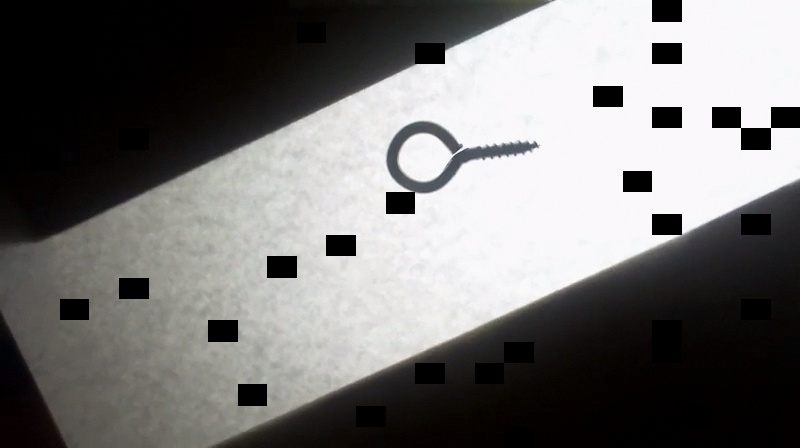O001: (379, 118, 545, 196)
